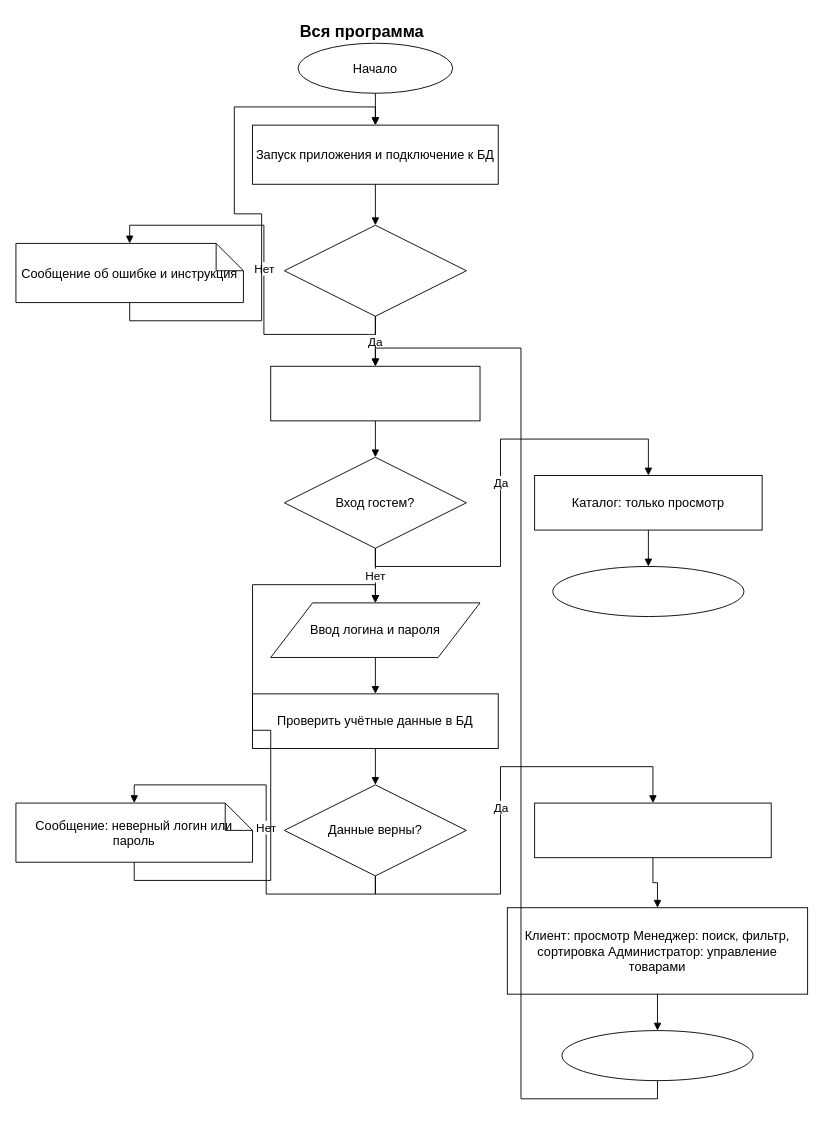
Image size: 824x1122. Some labels were removed from this diagram. The centre of each missing label's shape, as x and y in pixels:
Выход → окно входа: the point at 657,1055
Конец гостевого сеанса: the point at 648,591
Окно входа: the point at 375,393
Определить роль и открыть каталог: the point at 652,830
Подключение доступно?: the point at 374,270
